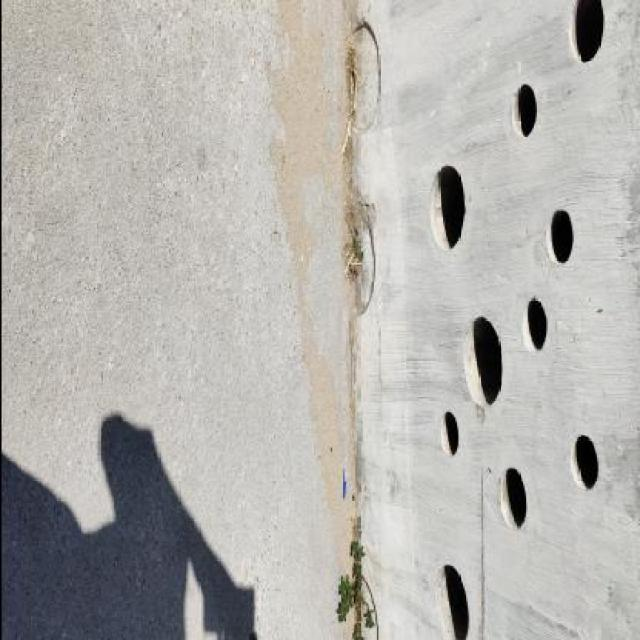plastic: (342, 468, 344, 499)
